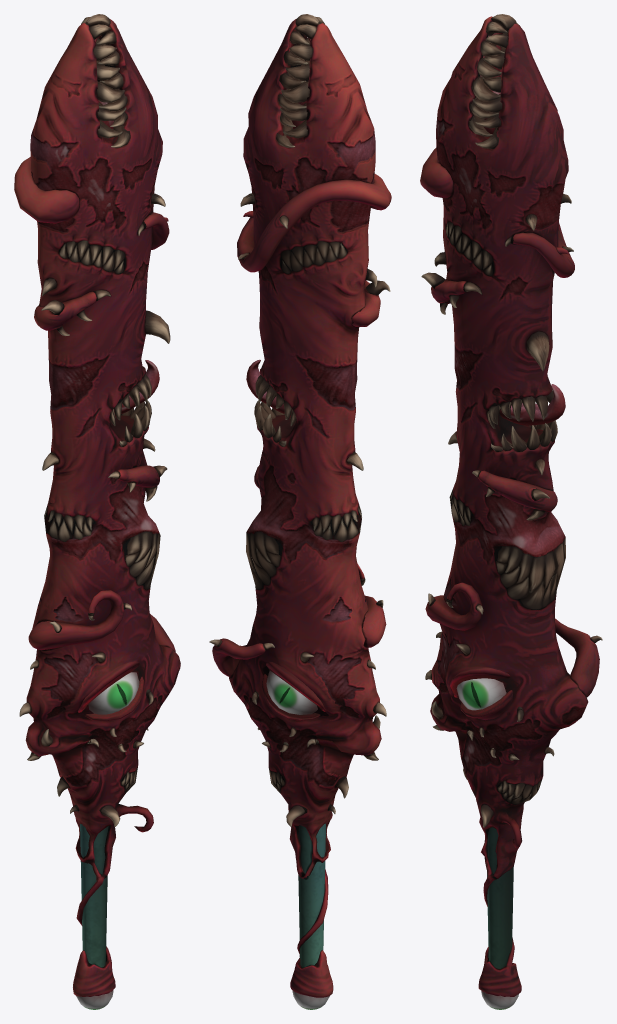
Rendered from sm_sword_30.gltf.
3 renders of one model, left to right at view 1: azimuth 30°, elevation 25°; view 2: azimuth 150°, elevation 25°; view 3: azimuth 330°, elevation 25°, orthographic.
Visible parts, largest first — view 1: sm_sword_30; view 2: sm_sword_30; view 3: sm_sword_30.
Part boxes in pixels (x1,y1,x2,y2): sm_sword_30: [14, 14, 180, 1009]; sm_sword_30: [209, 14, 391, 1009]; sm_sword_30: [420, 14, 602, 1009].
Size of the model in its own units: 0.256 by 1.5 by 0.1749.
1 material, 1 textured.
